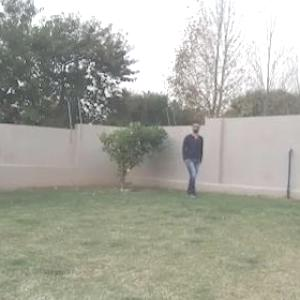follow: (184, 124, 202, 195)
